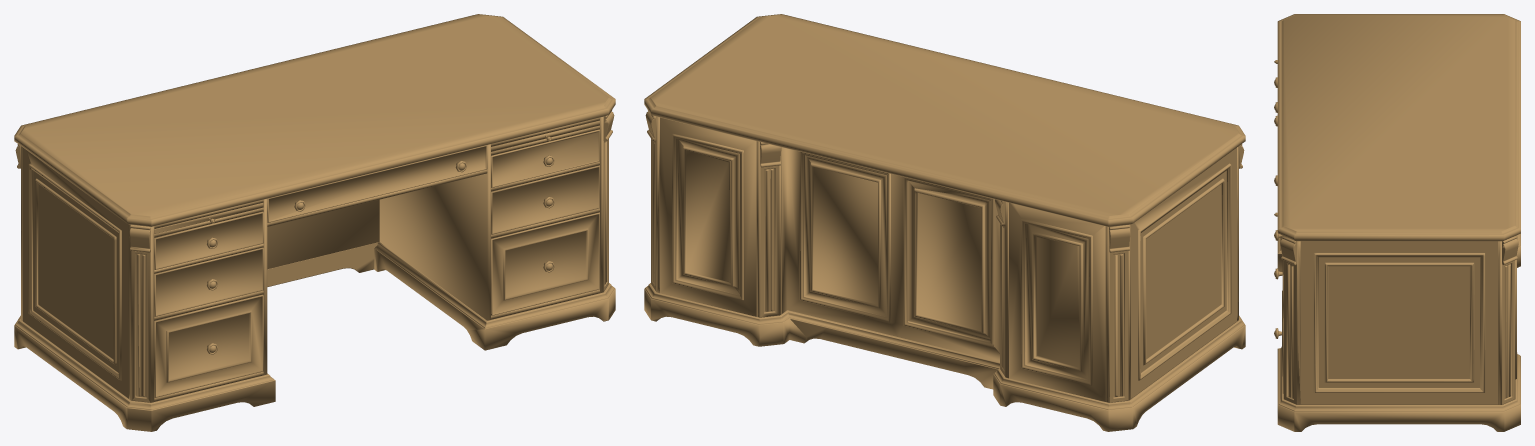
File: table7.obj
The picture shows the model from 3 angles, left to right: view 1: azimuth 30°, elevation 25°; view 2: azimuth 150°, elevation 25°; view 3: azimuth 270°, elevation 25°; orthographic projection. The views are drawn at different scales.
Parts seen in each view (by area): view 1: table7; view 2: table7; view 3: table7.
Part boxes in pixels (<box>): table7: <box>14,14,615,431</box>; table7: <box>644,14,1245,431</box>; table7: <box>1274,14,1520,431</box>.
Size of the model in its own units: 185 by 77 by 87.
